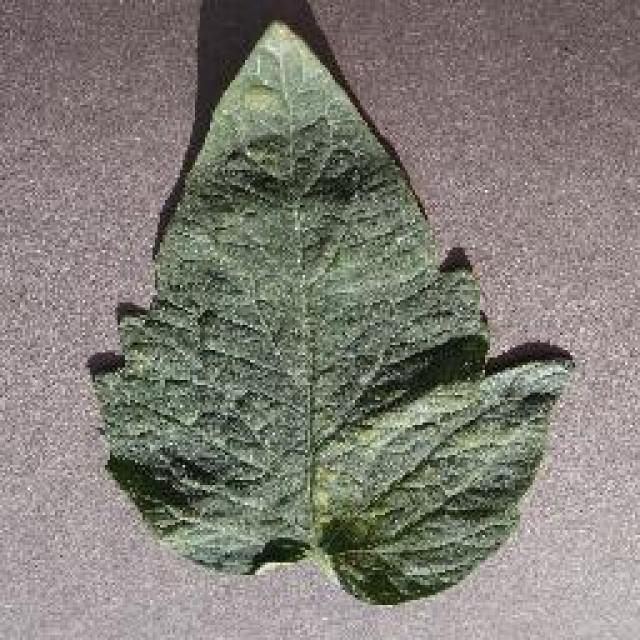Tomato___Spider_mites Two-spotted_spider_mite: (92, 22, 570, 600)
